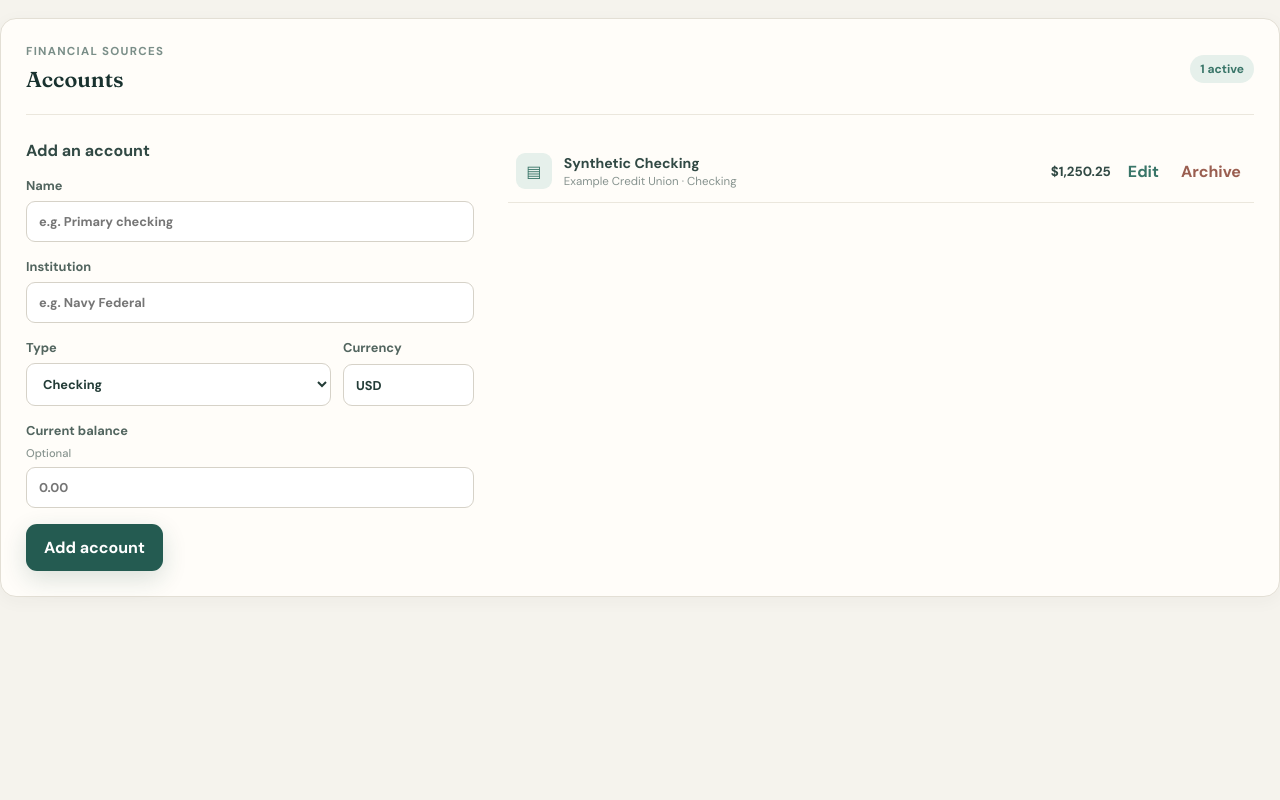
Test: AccountManager › archives an account from the active list
The image size is (1280, 800).
Expected: the text "Synthetic Checking" is shown, [564, 154, 700, 172]
Click the button "Archive" at (1211, 171), box [1176, 156, 1246, 186]
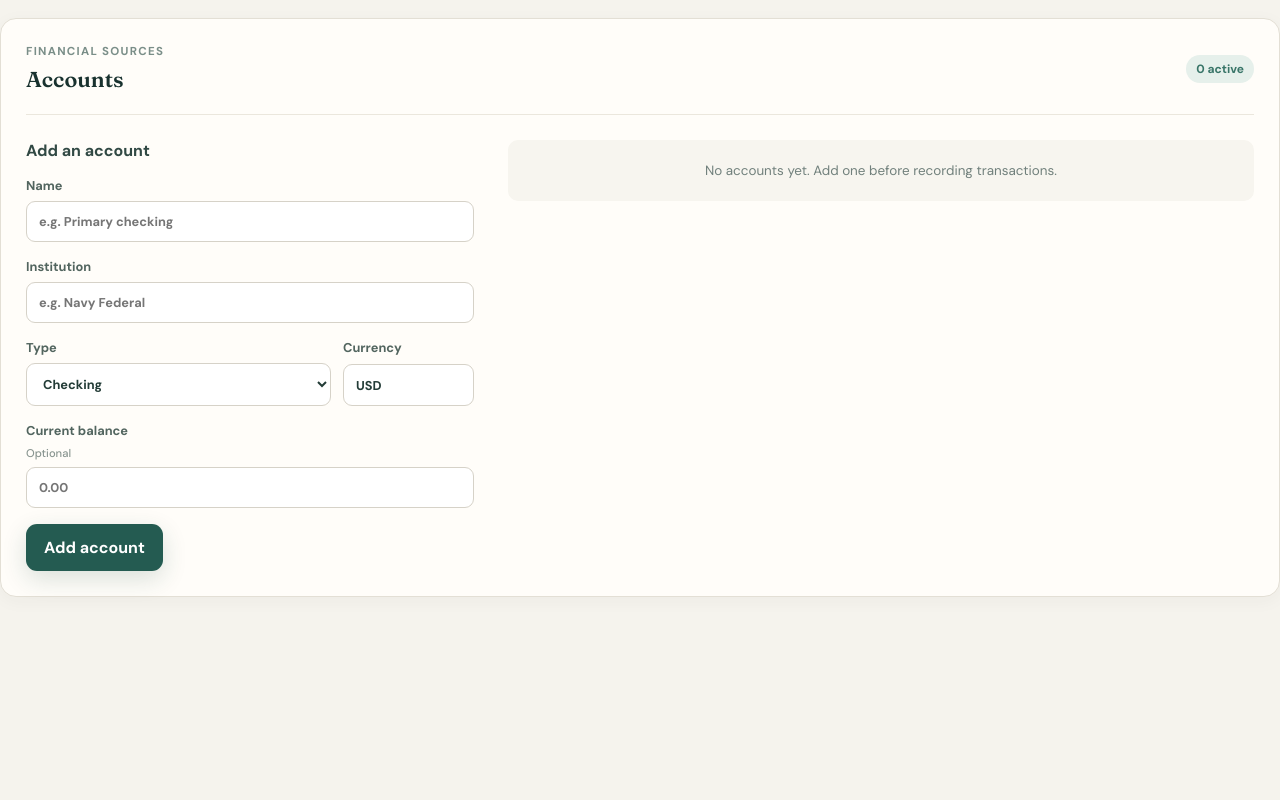
Expected: the text "Synthetic Checking" is gone
Expected: the text "No accounts yet. Add one before recording transactions." is shown, [508, 140, 1254, 201]
